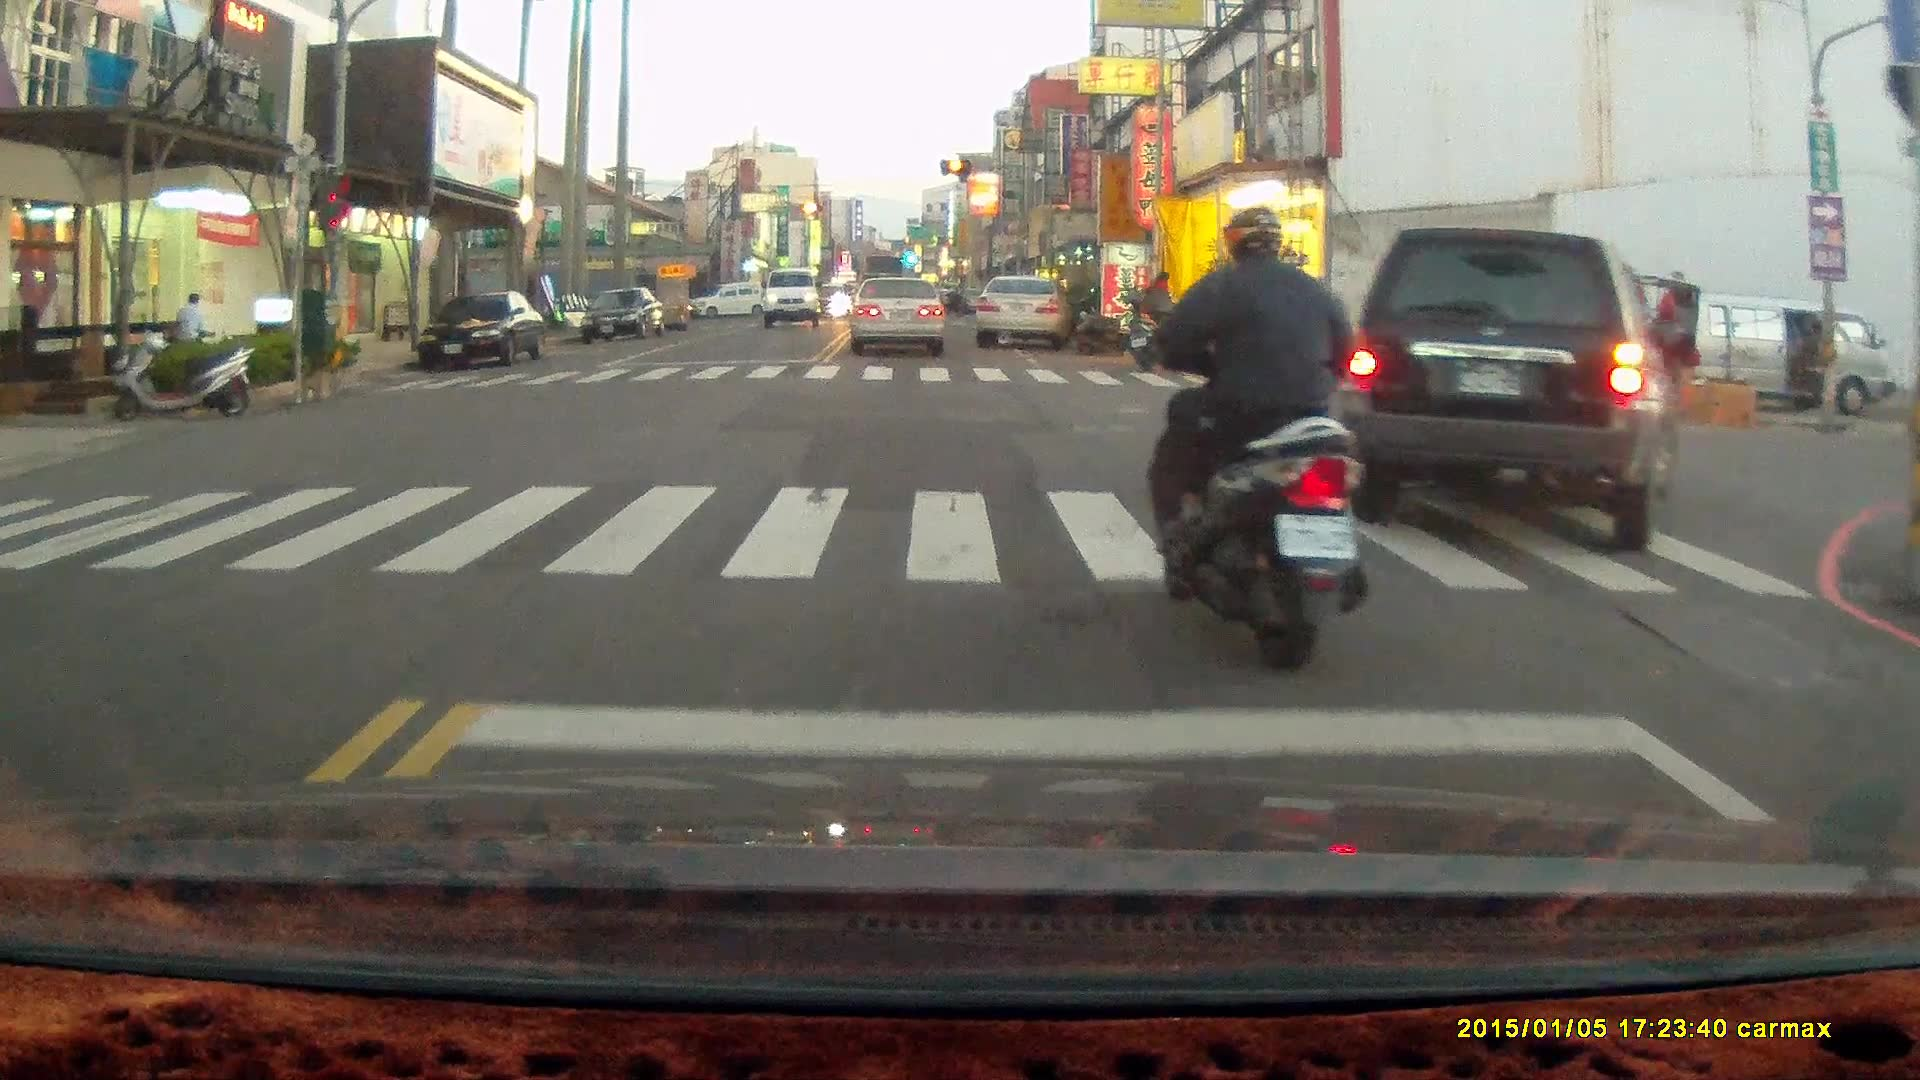pedestrian: (1141, 268, 1173, 359), (173, 291, 210, 357), (1802, 319, 1827, 410)
rider: (1145, 207, 1377, 684)
vehicle: (1348, 225, 1682, 545), (1637, 287, 1901, 417), (417, 289, 547, 373), (973, 263, 1074, 343), (849, 275, 948, 355), (581, 287, 668, 346), (764, 268, 824, 330)
